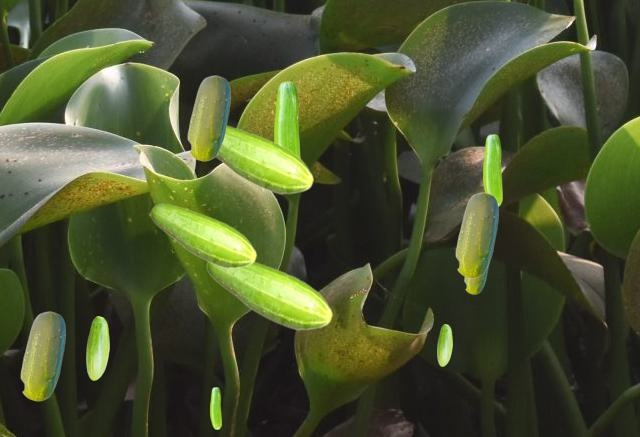cucumber: (206, 261, 332, 330), (150, 203, 256, 268), (216, 125, 313, 194), (20, 311, 64, 400), (187, 75, 229, 160), (455, 192, 497, 277), (274, 81, 299, 155), (86, 316, 108, 379), (483, 134, 501, 206), (464, 267, 488, 293), (437, 324, 451, 365), (210, 387, 220, 428)
